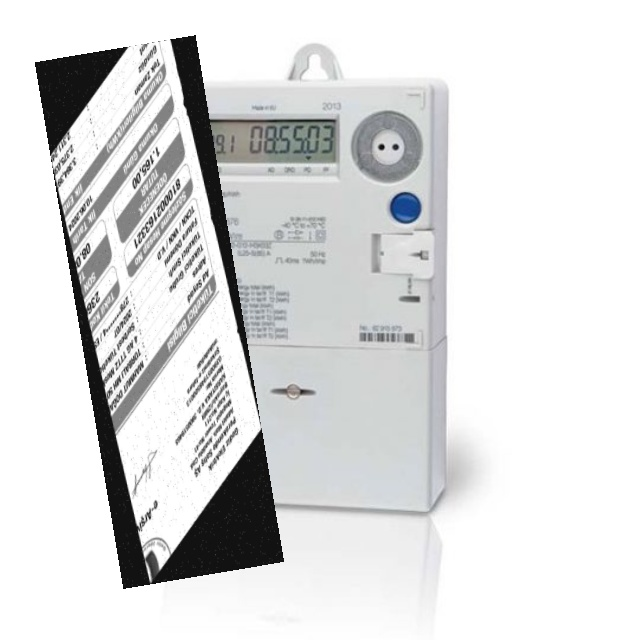electricity-bill: (35, 35, 284, 589)
